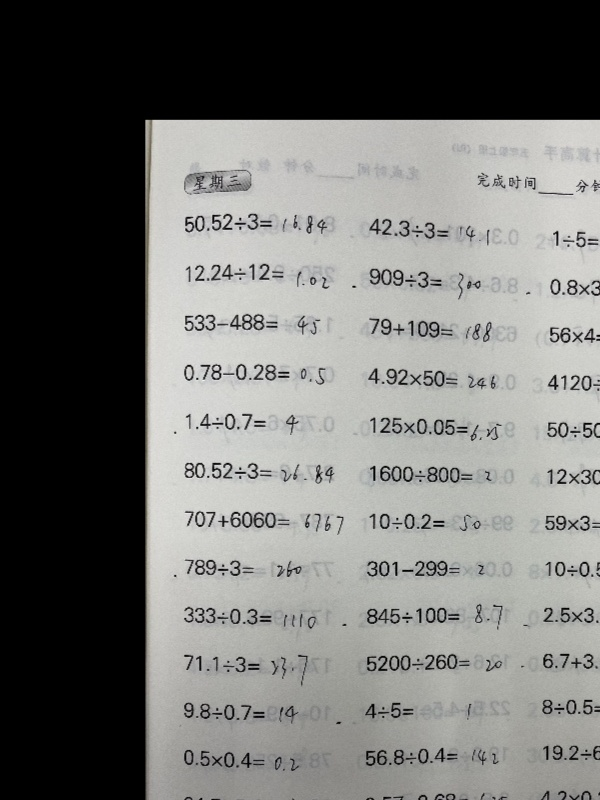equation: (180, 507, 346, 540), (180, 650, 311, 689), (361, 599, 506, 634), (179, 309, 326, 341), (181, 258, 332, 288), (364, 265, 484, 302), (361, 649, 504, 680), (180, 552, 310, 585), (179, 603, 320, 633), (179, 208, 329, 236), (179, 458, 336, 484), (362, 695, 476, 730), (178, 359, 327, 385), (365, 413, 503, 440), (182, 409, 302, 440), (363, 315, 494, 343), (360, 743, 500, 768), (363, 556, 488, 584), (365, 509, 490, 537), (363, 365, 498, 390), (365, 217, 492, 242), (364, 461, 493, 485), (178, 699, 300, 724), (178, 747, 301, 771), (538, 739, 600, 776), (545, 222, 600, 263), (536, 510, 600, 545), (538, 649, 600, 682), (544, 274, 600, 309), (542, 464, 600, 496), (536, 692, 600, 721), (359, 788, 509, 800), (538, 602, 600, 628), (548, 322, 600, 352), (543, 370, 600, 395), (541, 556, 600, 580), (543, 418, 600, 441), (179, 792, 322, 800), (535, 784, 600, 800)
